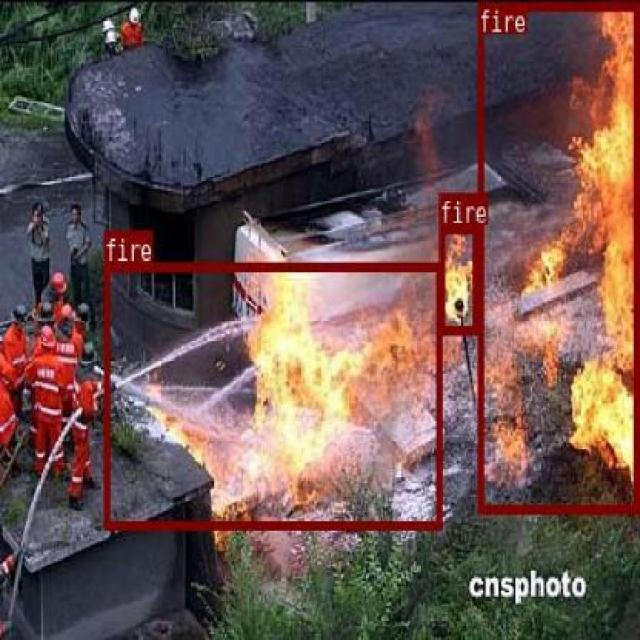fire: (103, 261, 440, 528), (476, 1, 638, 512), (438, 224, 478, 333)
